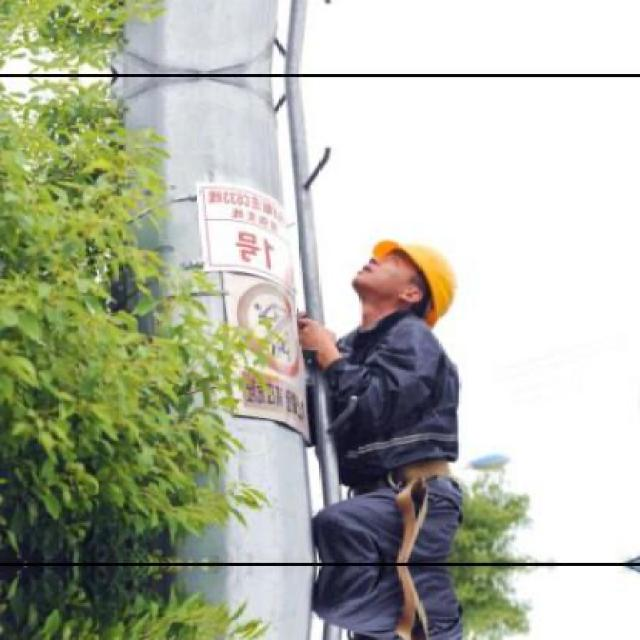con casco: (331, 199, 464, 337)
